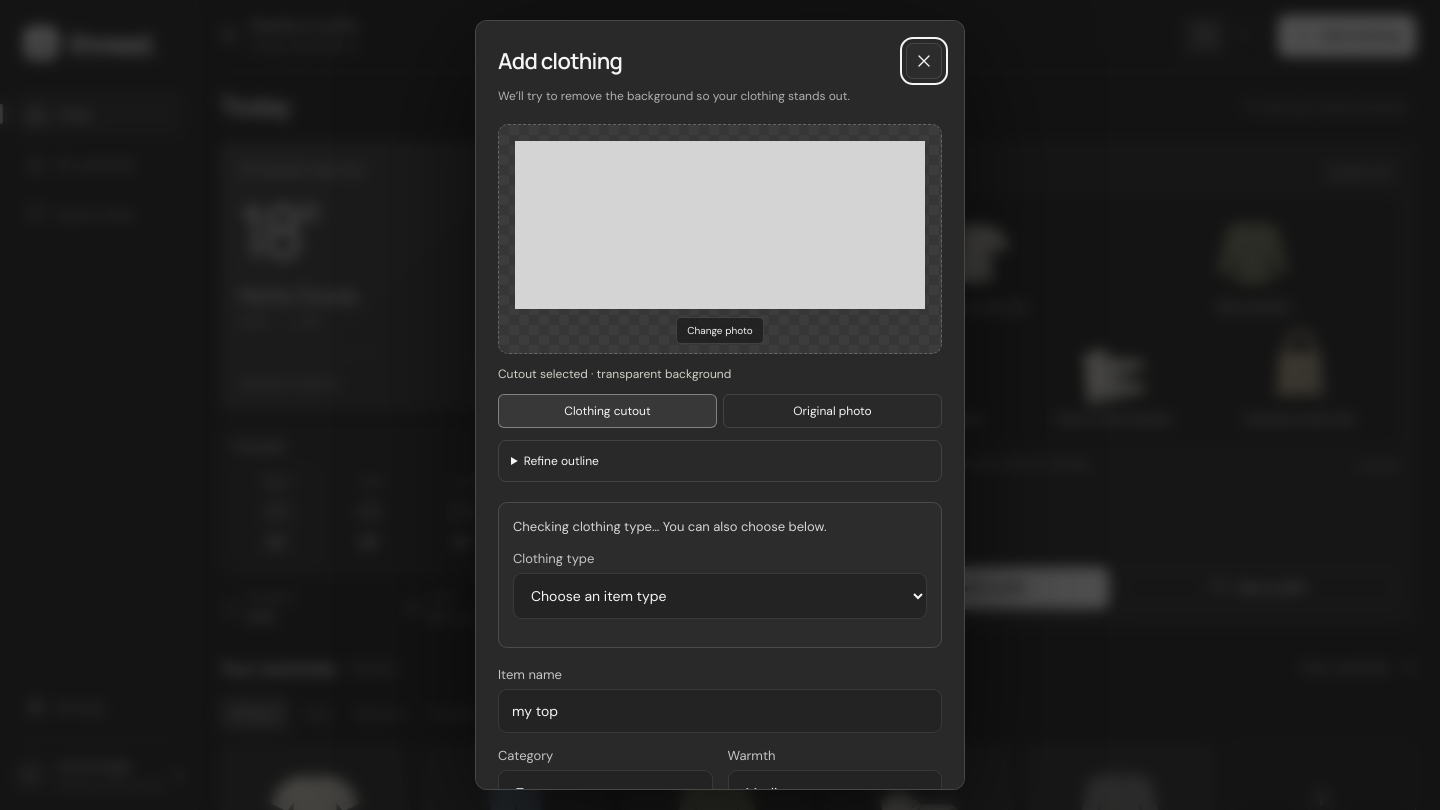
adds a photo and switches from sample pieces to the personal wardrobe
The image size is (1440, 810).
Earlier steps of the test are not shown.
Replace the text in the field labelled "Item name" with "My actual shirt" at [720, 711], box [498,689,942,733]
(page scrolled)
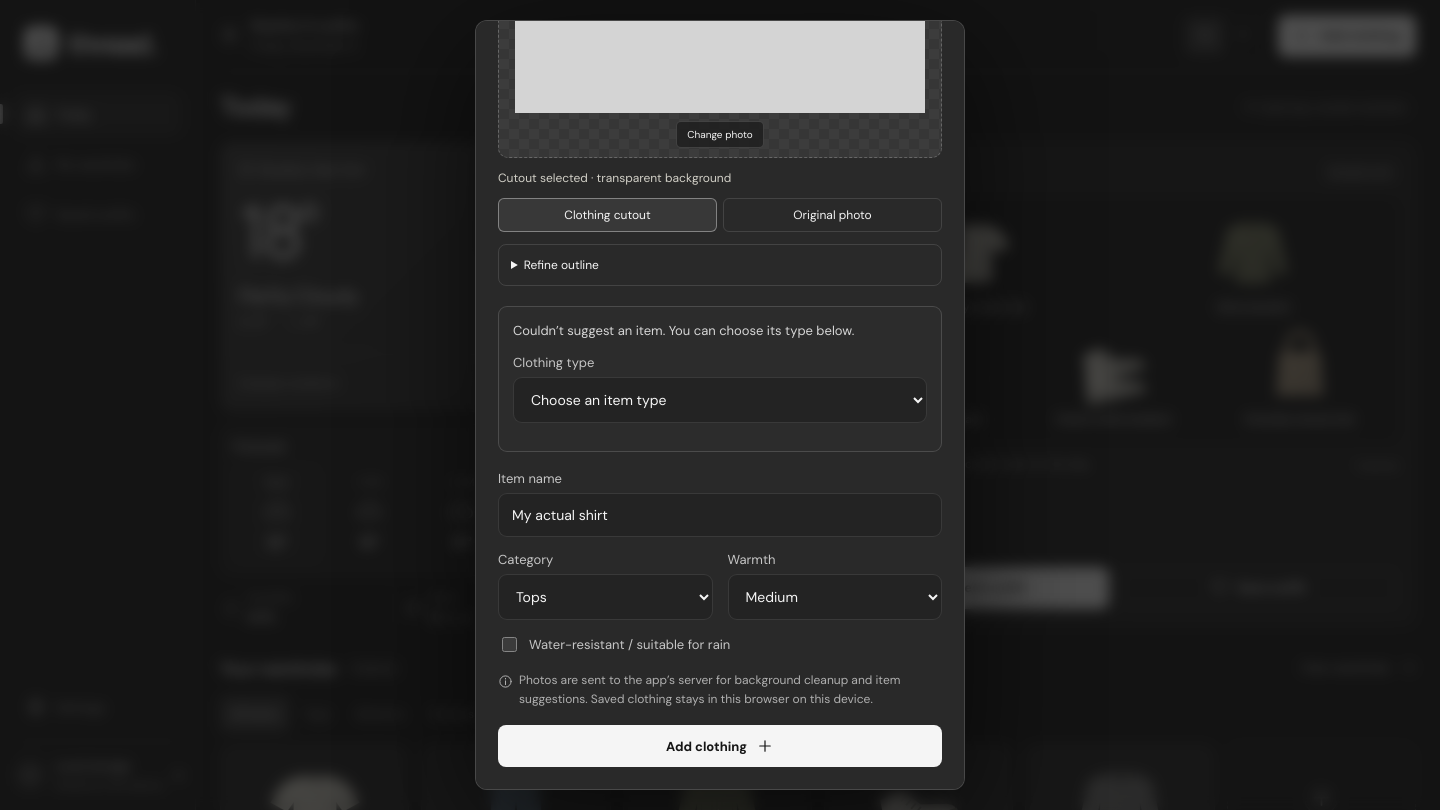
Click the button "Add clothing".
click(720, 746)  # box [498,725,942,767]
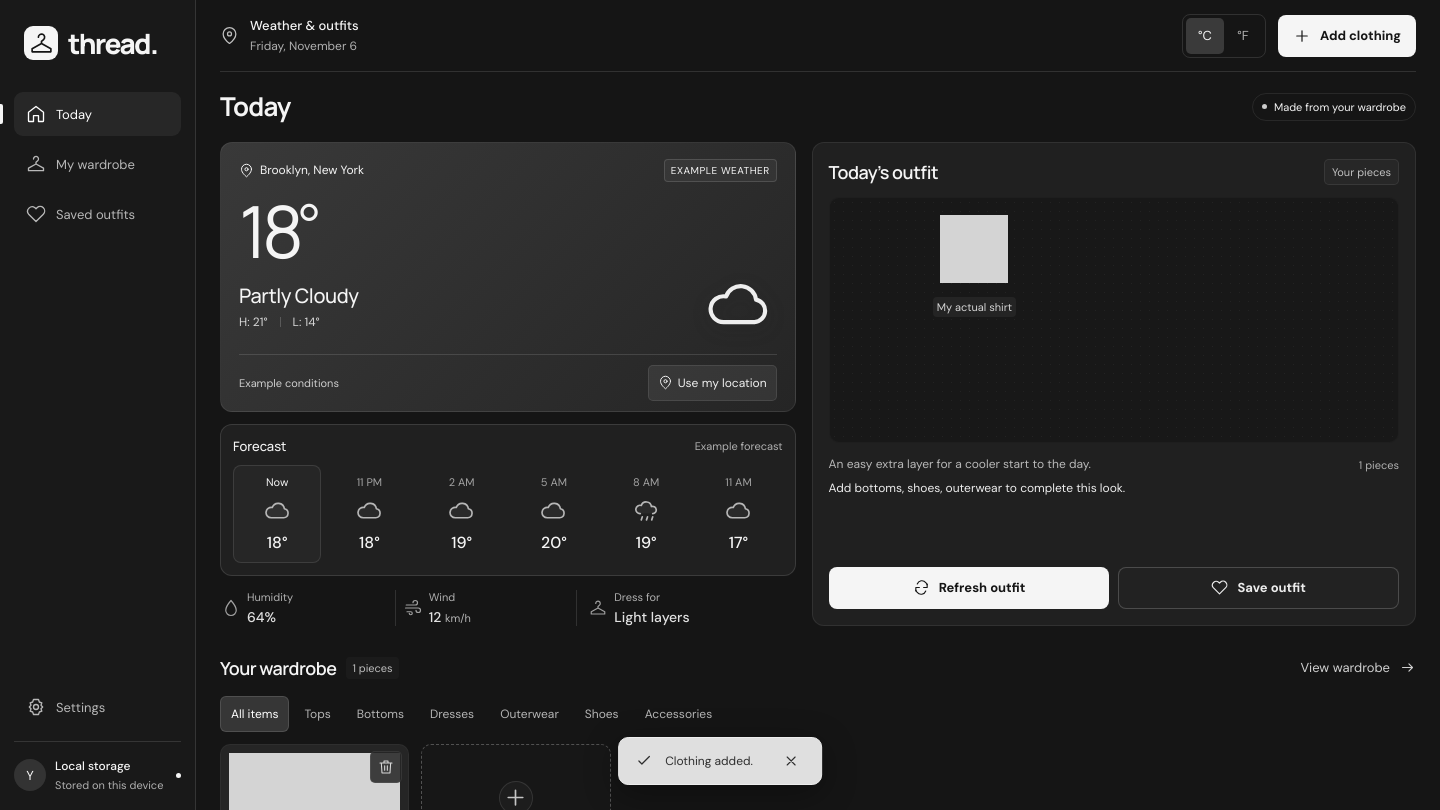
expect the text "Olive overshirt" is not shown: met
expect the text "Made from your wardrobe" is shown: met, box [1252,93,1416,121]
expect the text "Add bottoms, shoes, outerwear to complete this look." is shown: met, box [829,479,1125,497]
